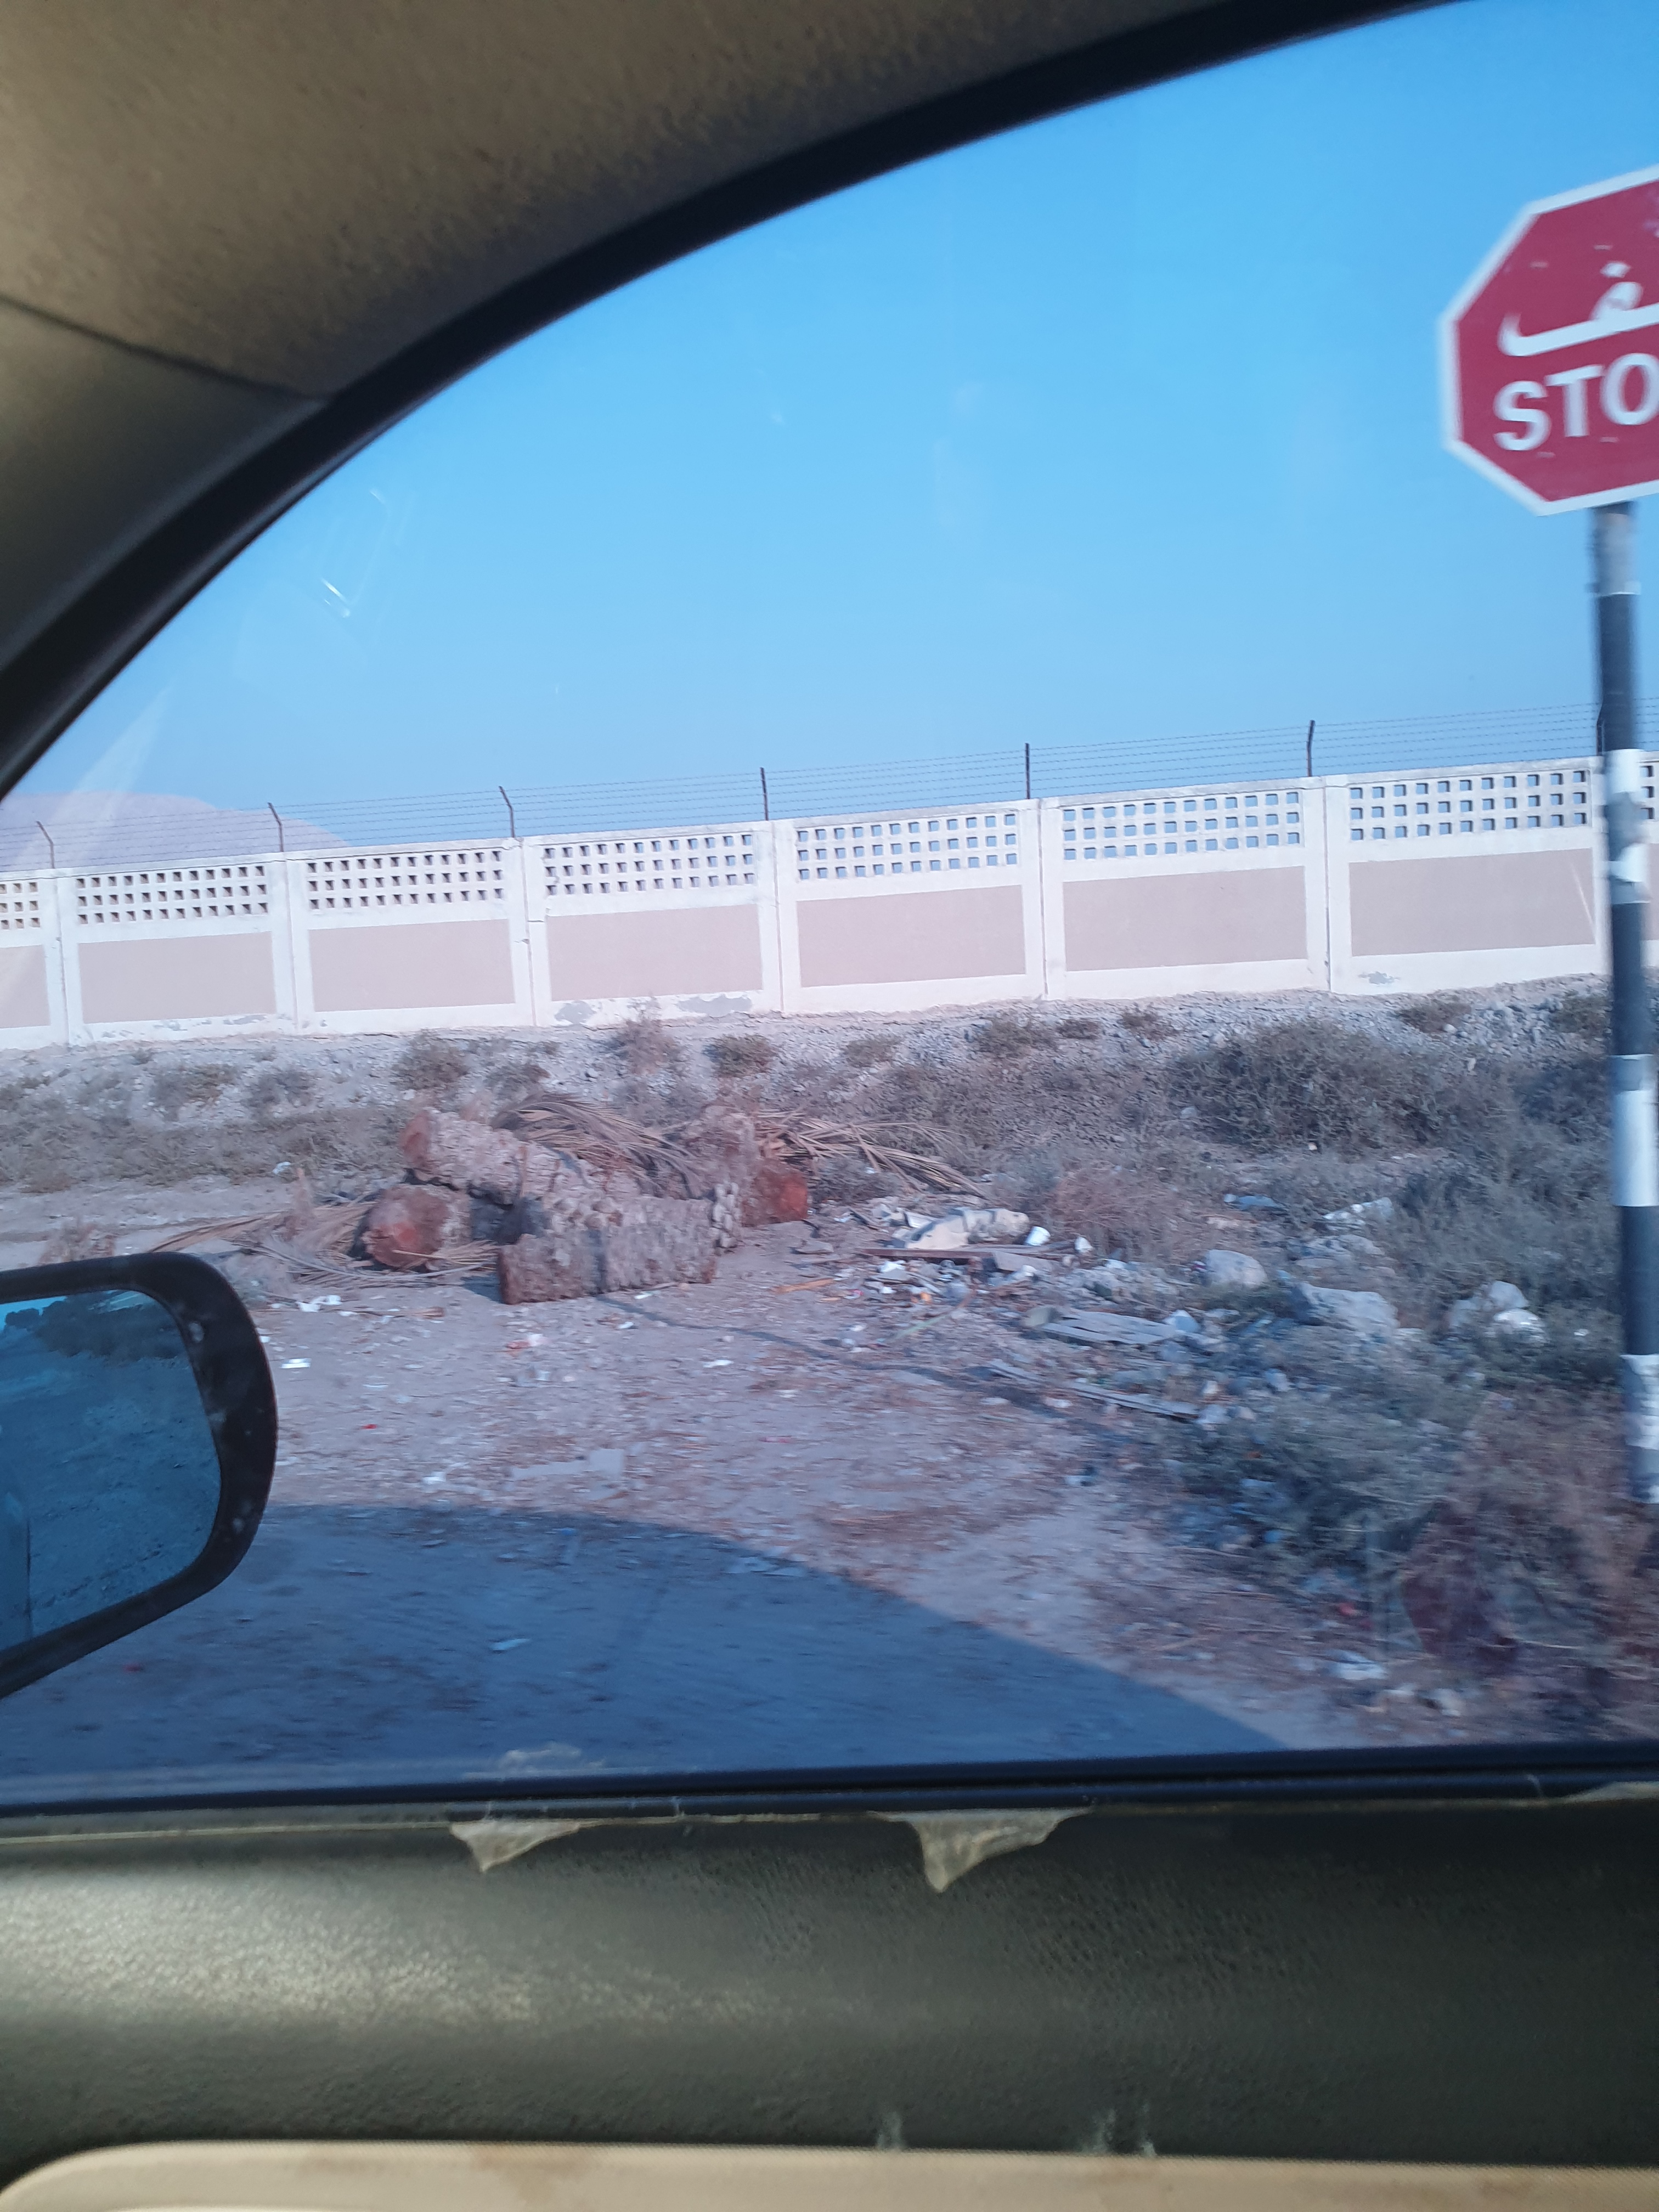fallen_trees: (340, 1080, 800, 1327), (692, 1094, 997, 1230)
